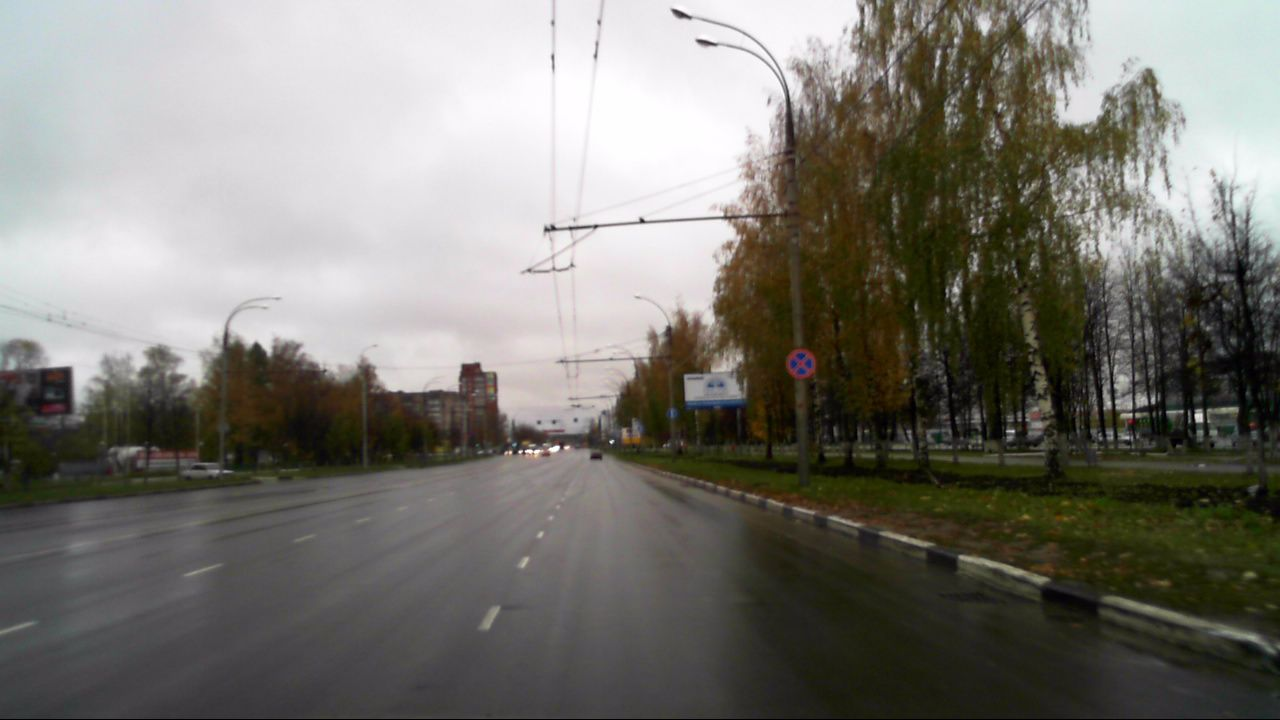No Parking: (786, 348, 817, 379)
